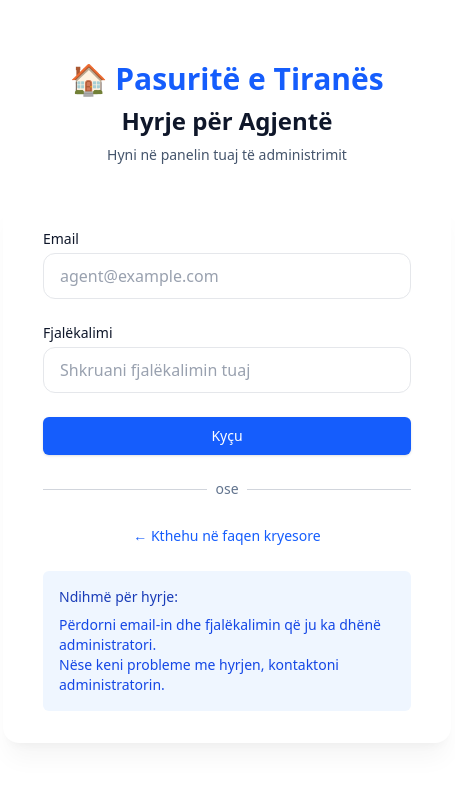
Test: Admin Login Component › displays generic error message on network failure
Type "admin@test.com" into the field labelled "Email".
click(227, 276); type("admin@test.com")  # box x1=43 y1=253 x2=411 y2=299
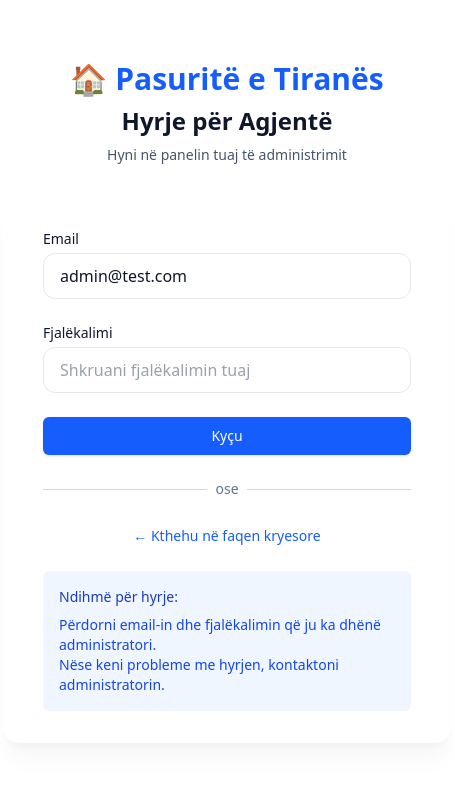
Type "password" into the password field labelled "Fjalëkalimi".
click(227, 370); type("password")  # box x1=43 y1=347 x2=411 y2=393
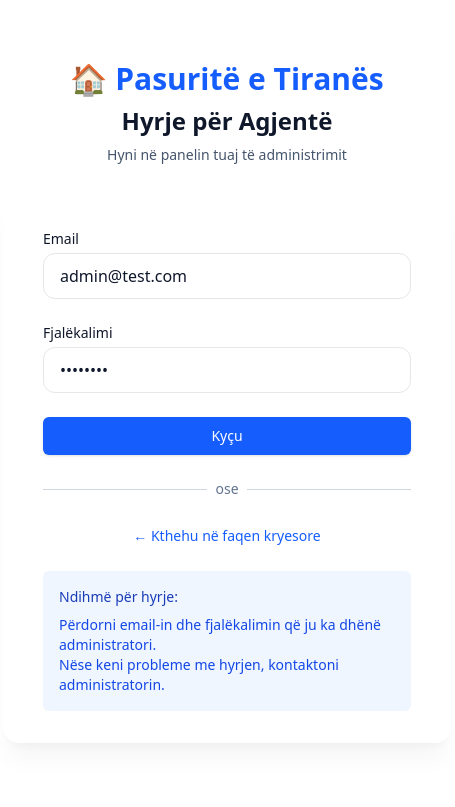
Click the button "Kyçu".
click(227, 436)  # box x1=43 y1=417 x2=411 y2=455
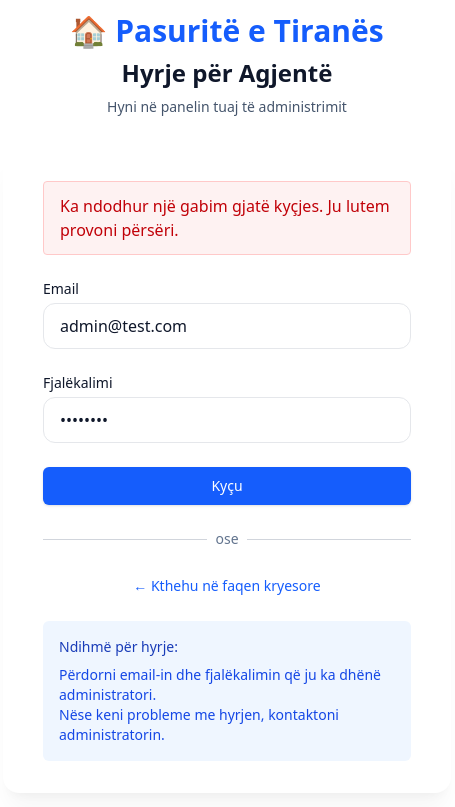
Expected: the text "Ka ndodhur një gabim gjatë kyçjes. Ju lutem provoni përsëri." is shown, x1=43 y1=181 x2=411 y2=255
